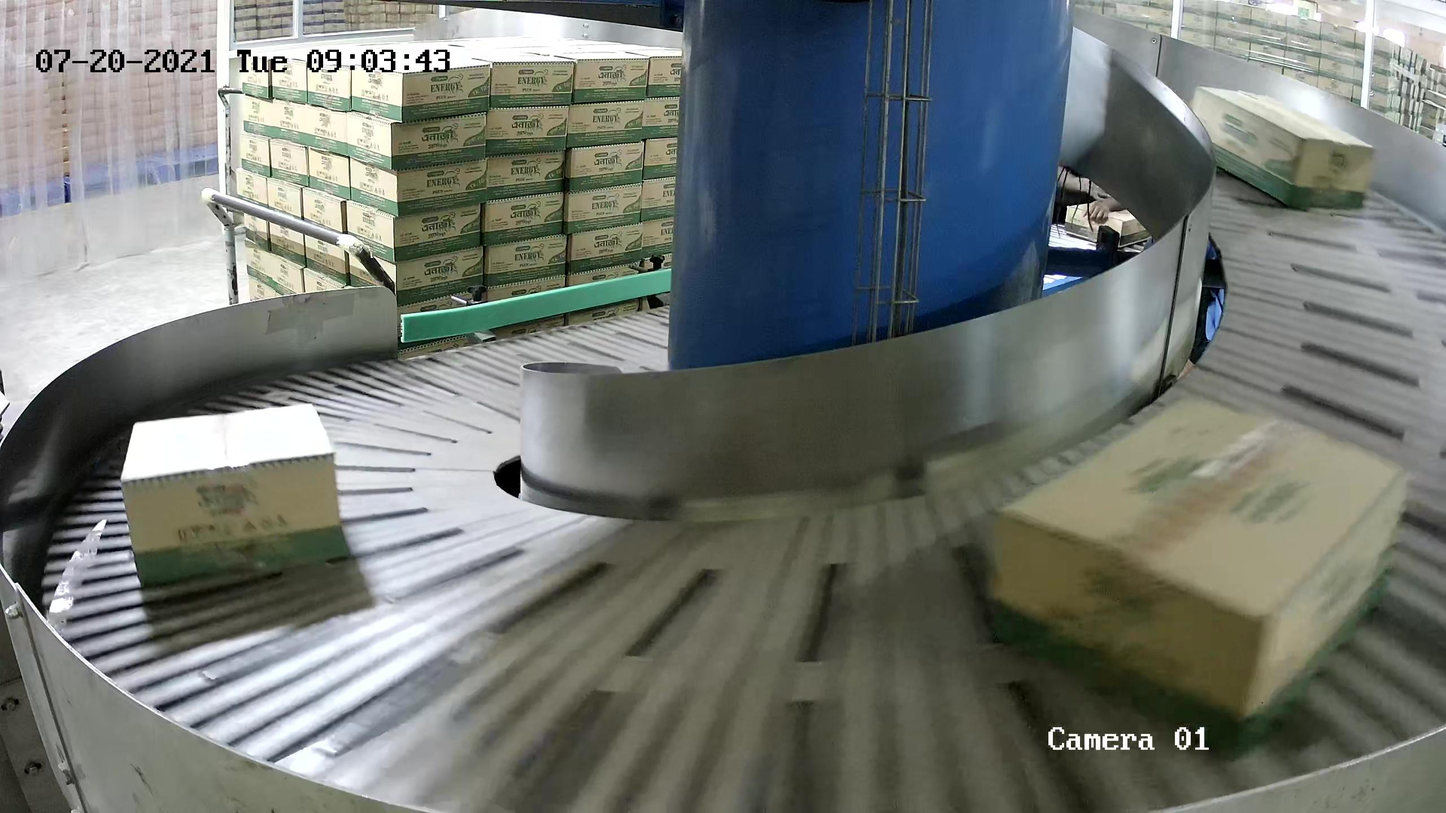Box: (986, 392, 1409, 762), (119, 402, 351, 586), (1190, 84, 1375, 208)
